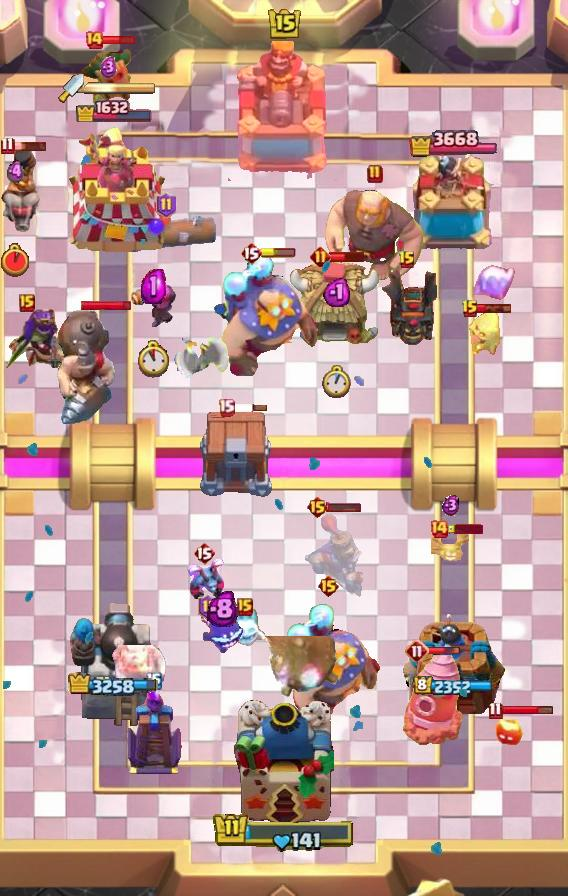archer-evolution: (377, 264, 437, 348)
balloon: (322, 186, 428, 284)
bar: (55, 126, 173, 256)
barbarian-hut: (0, 306, 84, 376)
bat: (224, 608, 269, 650)
bat-evolution: (466, 309, 502, 359)
bomb: (197, 412, 275, 498)
bomber: (495, 716, 523, 748)
clock: (213, 811, 355, 852)
electro-spirit: (207, 589, 237, 626), (142, 268, 167, 303), (322, 277, 349, 308), (7, 159, 25, 185), (99, 56, 117, 80), (442, 494, 460, 516)
elite-barbarian: (0, 146, 44, 232)
elixir: (135, 340, 171, 378), (321, 365, 350, 399), (1, 243, 29, 277)
elixir-golem-big: (300, 511, 368, 599)
emote: (81, 300, 132, 313), (501, 705, 554, 716), (329, 249, 367, 262), (12, 140, 49, 152), (326, 501, 362, 513), (103, 34, 138, 46), (476, 302, 511, 314), (260, 248, 296, 258), (232, 403, 268, 413), (447, 524, 483, 534), (427, 646, 461, 656)
goblin-barrel: (80, 45, 136, 109)
ice-spirit-evolution: (431, 531, 471, 563)
ice-spirit-evolution-symbol: (124, 684, 184, 776)
king-tower: (228, 41, 340, 181), (234, 700, 334, 826)
king-tower-bar: (84, 81, 156, 95)
little-prince: (212, 252, 320, 378), (275, 603, 381, 729)
magic-archer: (399, 650, 465, 748)
minion: (115, 216, 217, 252)
mirror: (471, 262, 517, 304)
prince: (289, 260, 383, 350)
queen-tower: (401, 613, 505, 731), (407, 156, 499, 256)
royal-delivery: (183, 559, 225, 599)
royal-giant: (174, 323, 230, 381), (112, 645, 168, 695)
selected: (409, 127, 497, 161), (68, 672, 160, 700), (74, 98, 154, 123), (413, 675, 493, 697)
spear-goblin: (201, 608, 243, 654)
text: (405, 639, 429, 663), (306, 495, 329, 519), (317, 574, 340, 598), (156, 192, 177, 218), (197, 594, 218, 620), (240, 241, 262, 265), (193, 541, 215, 565), (309, 245, 330, 266), (84, 30, 104, 50), (429, 519, 449, 539), (398, 250, 416, 270), (461, 299, 479, 319), (367, 164, 383, 184), (217, 399, 234, 417), (19, 294, 35, 312), (237, 598, 253, 616), (146, 672, 162, 690), (1, 136, 16, 155), (488, 701, 503, 720)
tombstone: (131, 275, 178, 331)
tower-bar: (69, 599, 159, 731)
wizard: (53, 309, 117, 427)
x-bow: (261, 637, 343, 700)
